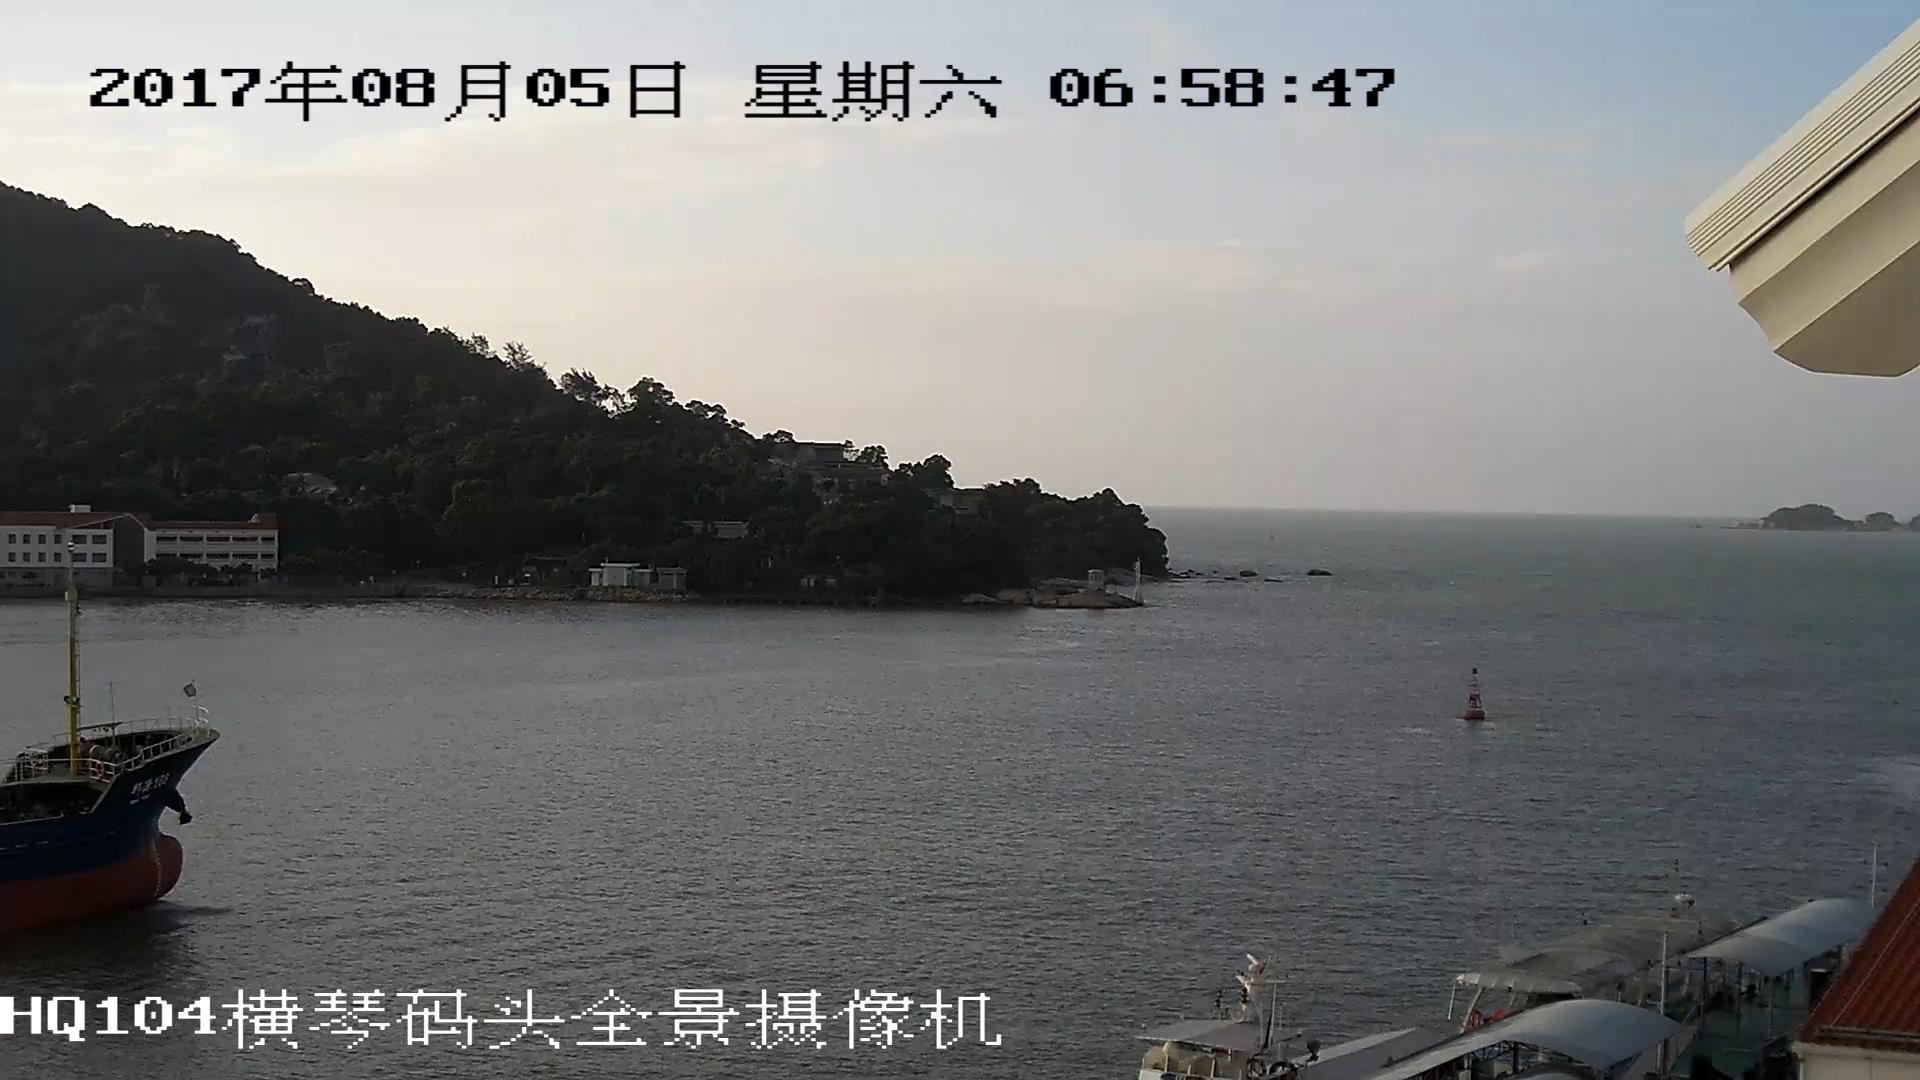Ship: (3, 584, 210, 945)
